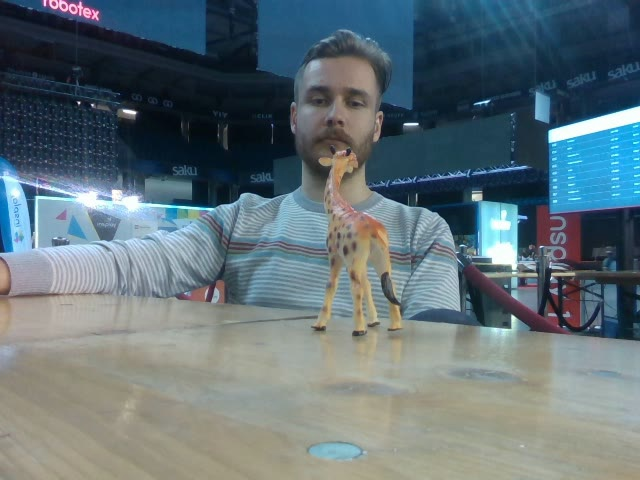toy: (307, 144, 402, 337)
